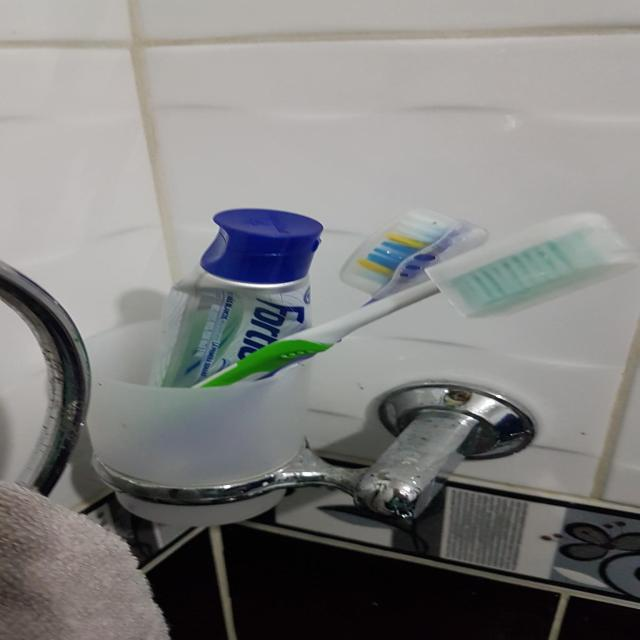Toothpaste: (162, 200, 324, 384)
